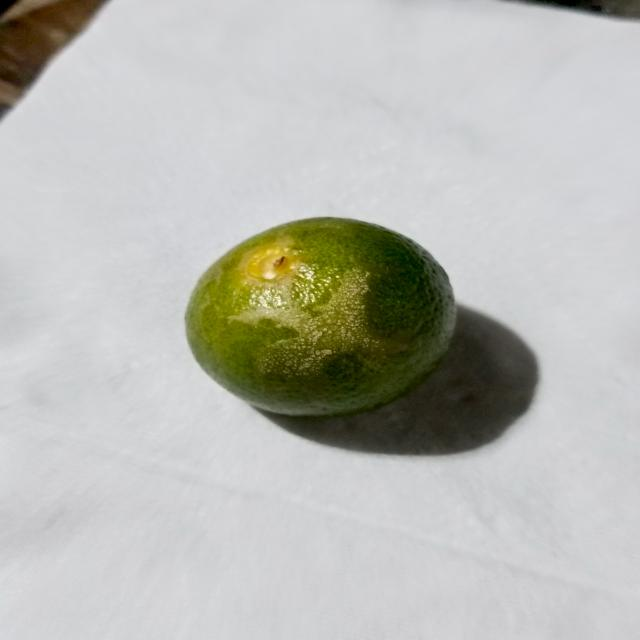thrips: (188, 218, 460, 422)
